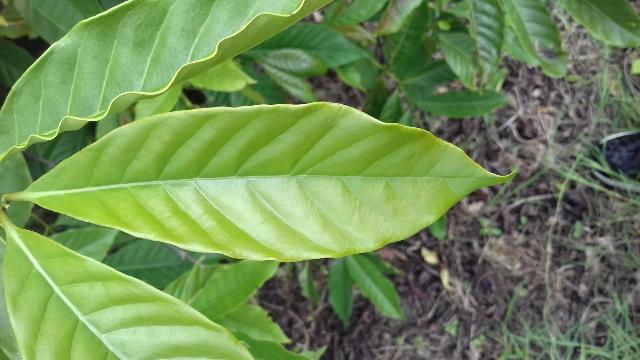healthy: (24, 100, 517, 259)
